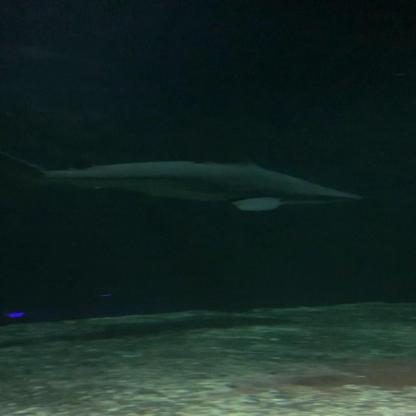shark: (7, 141, 360, 211)
